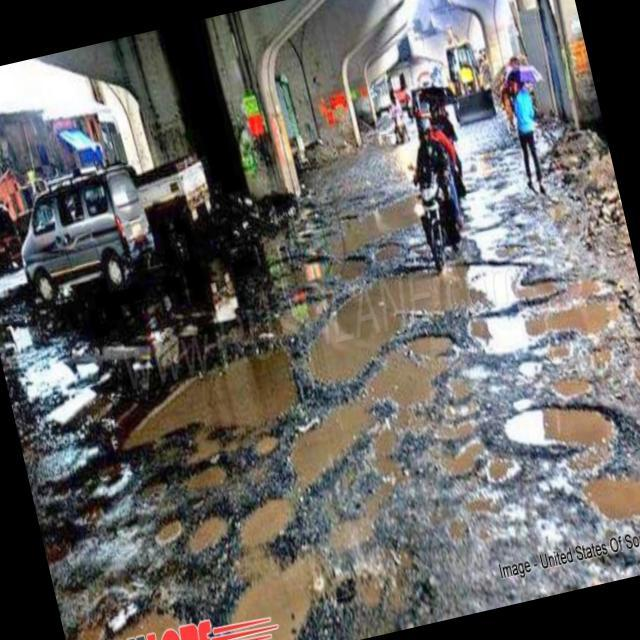Pothole: (166, 356, 302, 434), (380, 248, 512, 323), (506, 384, 616, 470), (231, 570, 325, 640), (494, 294, 601, 348), (579, 453, 640, 537), (384, 332, 454, 403), (436, 434, 514, 496), (292, 403, 360, 472), (318, 316, 376, 386), (111, 590, 191, 640), (356, 543, 418, 607), (242, 490, 298, 550), (48, 382, 104, 426), (328, 505, 374, 551), (190, 509, 228, 557), (184, 462, 228, 494), (276, 296, 316, 326), (156, 514, 182, 548), (250, 429, 280, 454)
